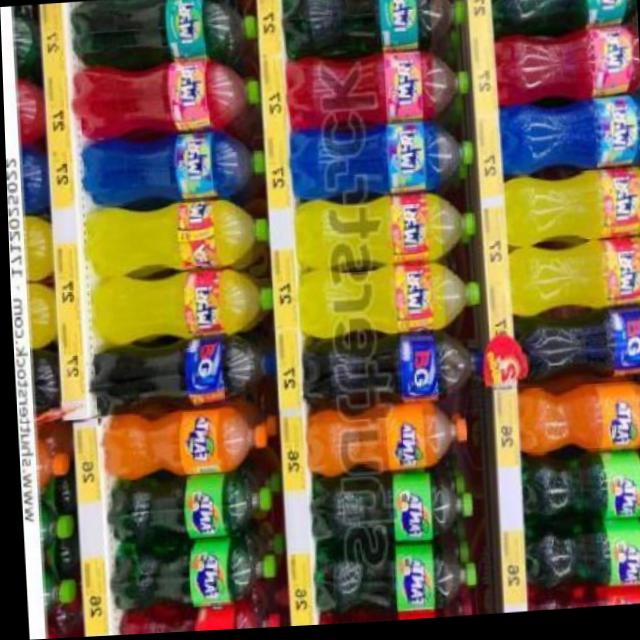Drinks: (304, 471, 469, 551), (97, 404, 264, 481), (103, 535, 272, 611), (100, 469, 269, 544), (300, 402, 465, 478), (307, 544, 472, 619), (512, 384, 640, 461), (517, 453, 640, 530), (520, 522, 640, 597), (111, 601, 278, 636), (521, 590, 640, 616), (311, 610, 473, 628)
